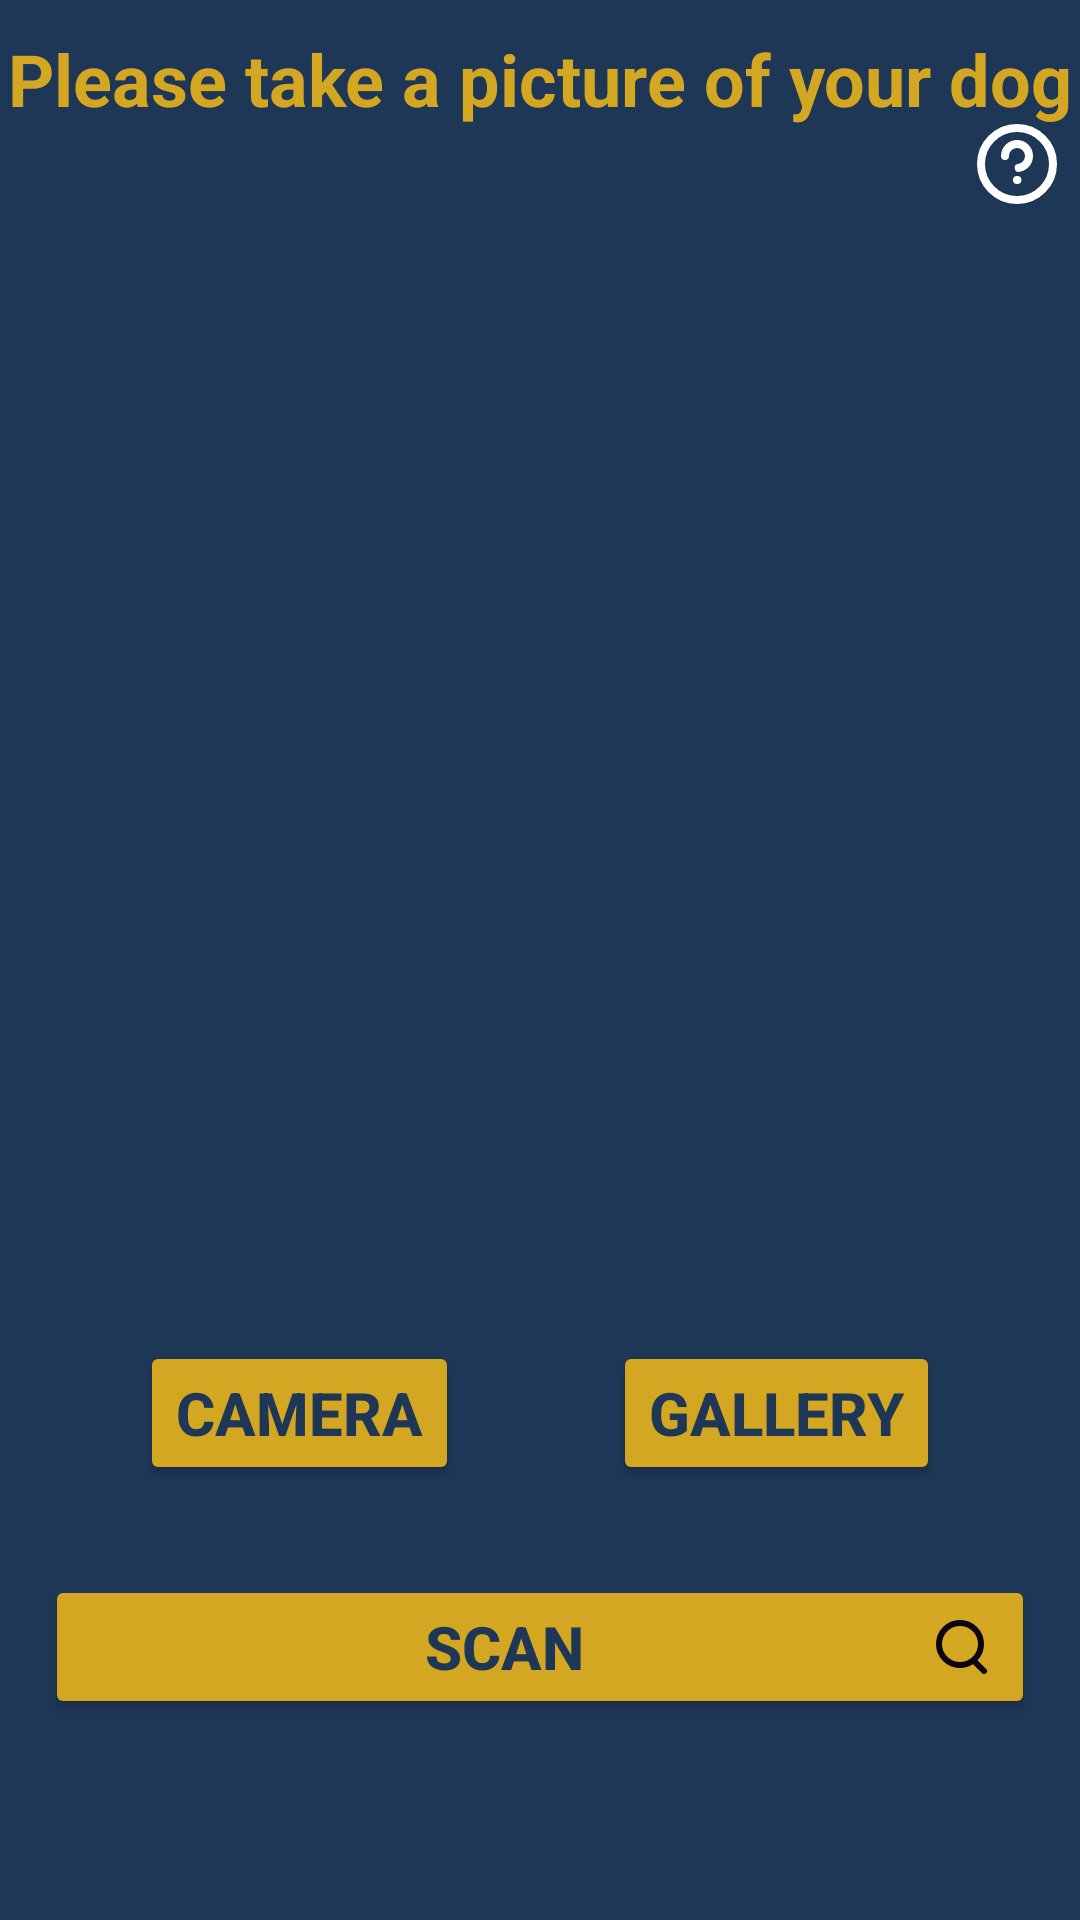

Icons on this 1080*1920 Android screen, each with its box as (x1, y1, x2, y2):
help: (977, 124, 1057, 204)
